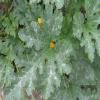Squash Powdery mildew leaf: (1, 43, 53, 99), (16, 23, 51, 52), (41, 3, 63, 41), (52, 37, 71, 74)
